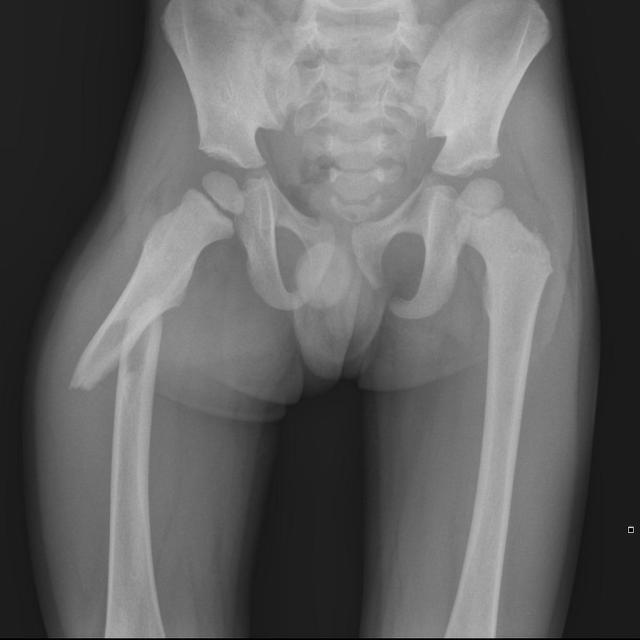fracture: (64, 303, 168, 394)
